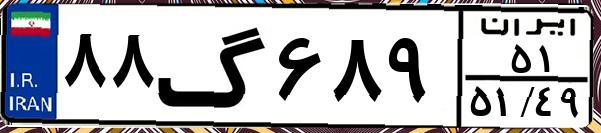1: (537, 27, 568, 80), (495, 70, 520, 125)
4: (535, 70, 560, 125)
5: (508, 27, 537, 80), (470, 70, 495, 125)
6: (270, 28, 330, 110)
8: (330, 28, 385, 110), (57, 26, 110, 100), (110, 28, 156, 98)
9: (385, 28, 445, 110), (560, 70, 590, 125)
گ: (156, 12, 270, 120)
